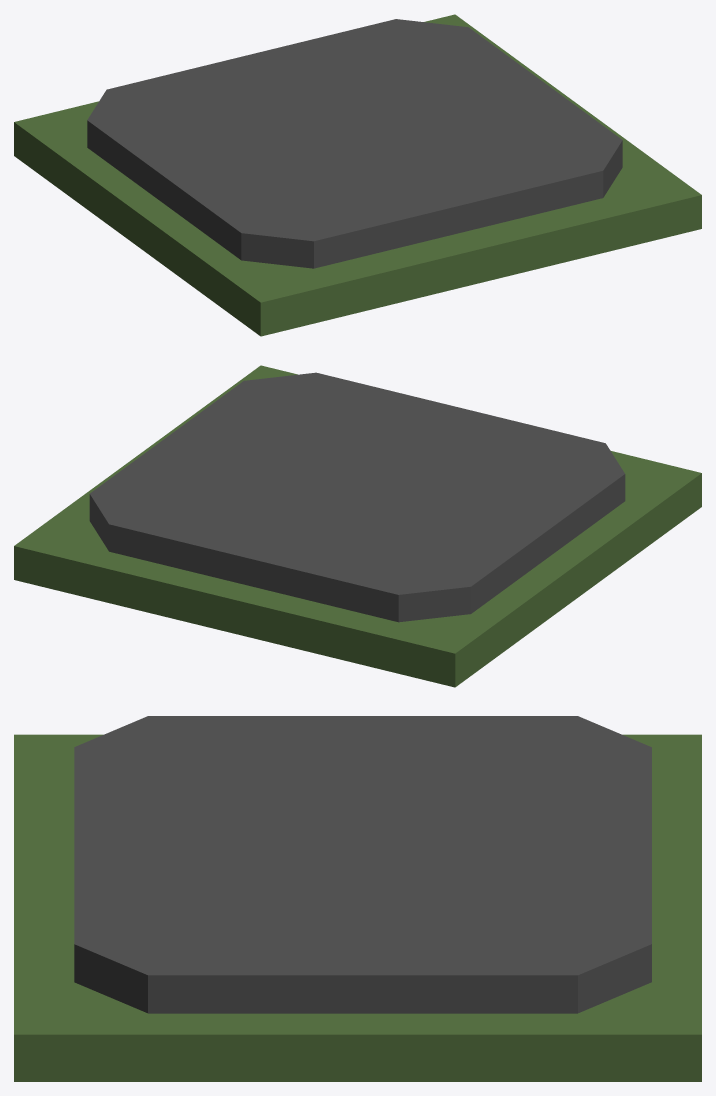
File: audio_rete5.fbx
The picture shows the model from 3 angles, top to bottom: view 1: azimuth 30°, elevation 25°; view 2: azimuth 150°, elevation 25°; view 3: azimuth 270°, elevation 25°; orthographic projection. The views are drawn at different scales.
Visible parts, largest first — view 1: audio_rete9; view 2: audio_rete9; view 3: audio_rete9.
Part boxes in pixels (bbox=[...]): audio_rete9: bbox=[14, 14, 701, 336]; audio_rete9: bbox=[14, 365, 701, 687]; audio_rete9: bbox=[14, 716, 701, 1081].
Bounding box in the file's own units: 1185 × 157 × 1148.
